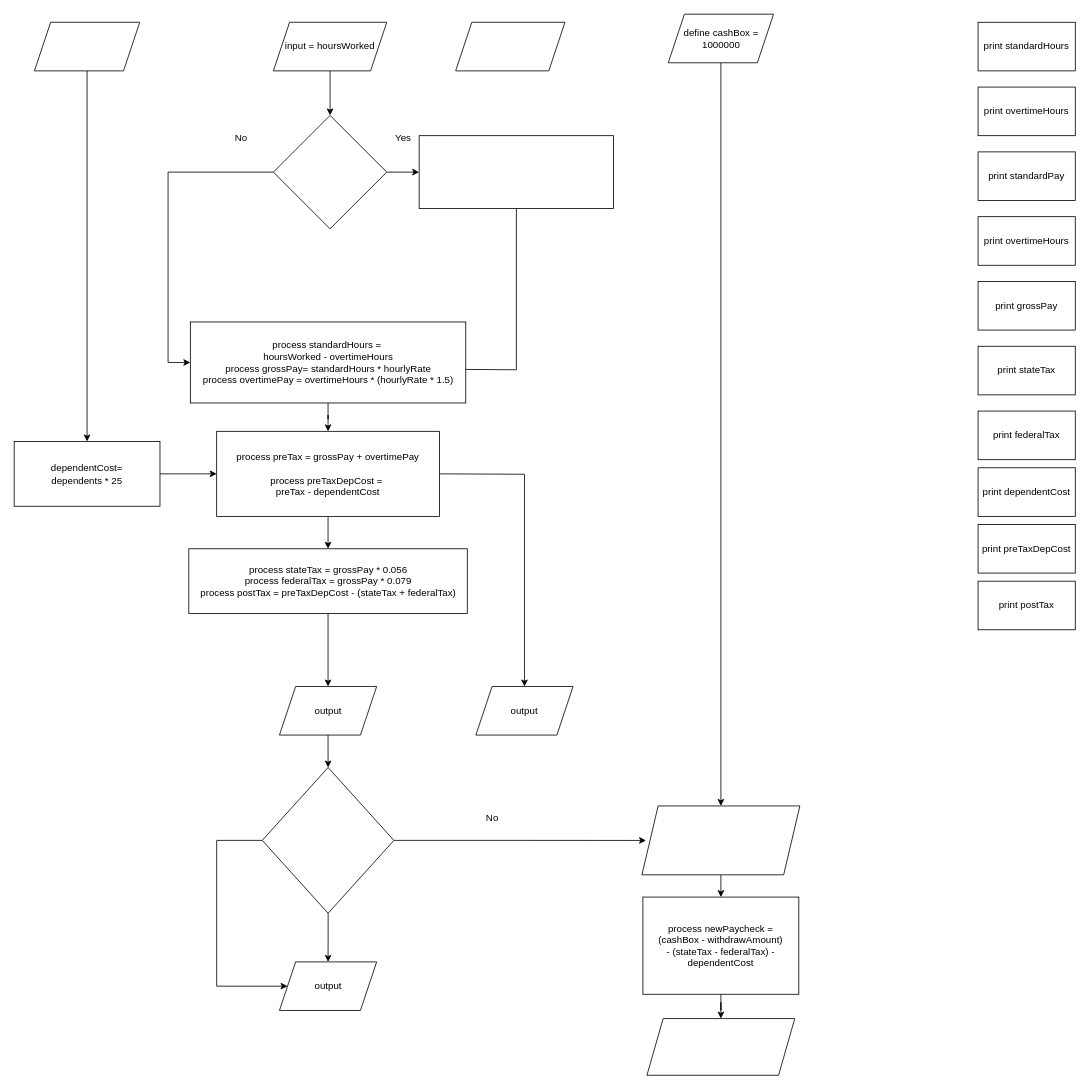
Image size: 1089x1089. Some labels were removed from this diagram. The centre of each missing label's shape, as x and y in pixels:
hoursWorked > 40?: point 330,172
input = dependents: point 87,46
input = hourlyRate: point 510,46
input withrawAmount = "How much would you like to withdraw?": point 720,840
OR = "Would you like this current pay check?": point 327,840
output = "We still taxed you sucker!": point 720,1046
process overtimeHours = hoursWorked - 40: point 516,172
